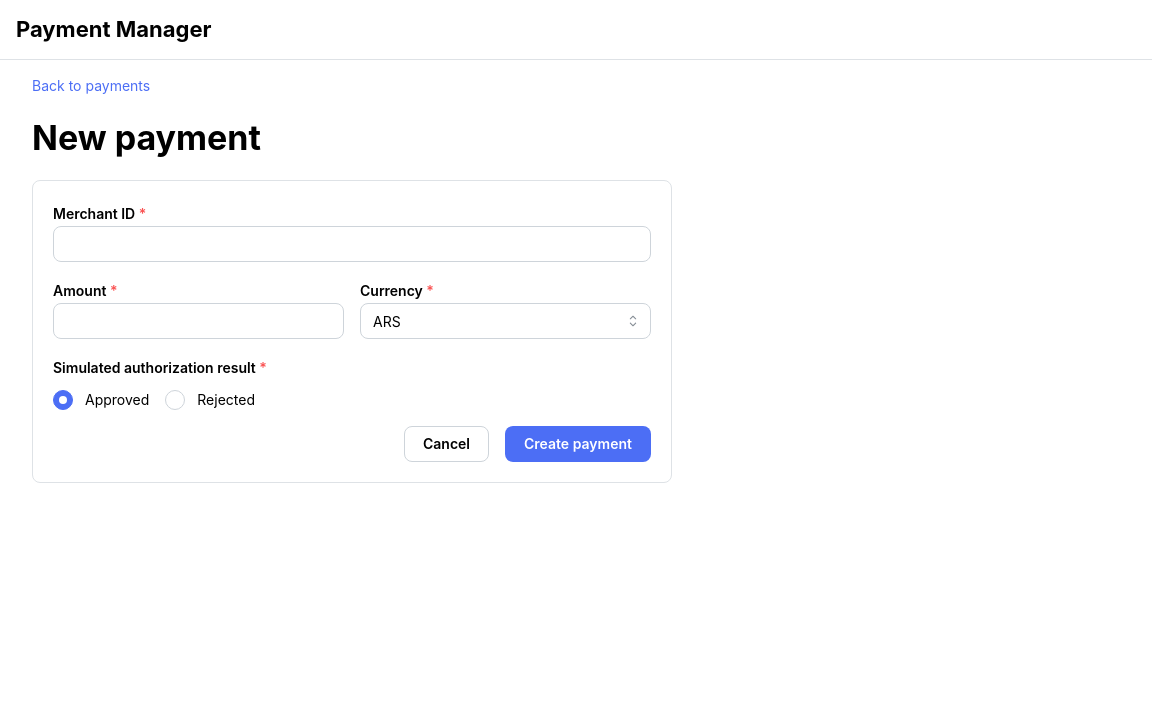
Test case: CreatePaymentPage › given an amount of zero, when the form is submitted, then shows the amount error and sends no request
Type "merchant-001" into the field labelled "Merchant ID" at (352, 244), box [53, 226, 651, 262]
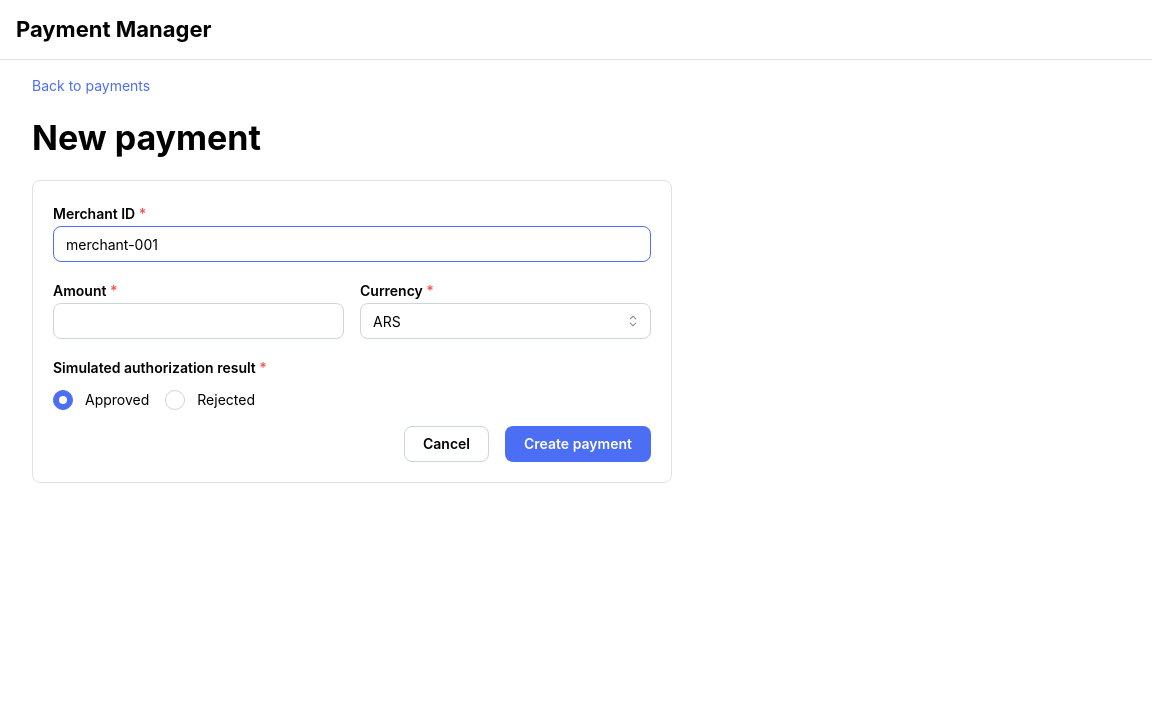
Type "0" into the field labelled "Amount" at (198, 321), box [53, 303, 344, 339]
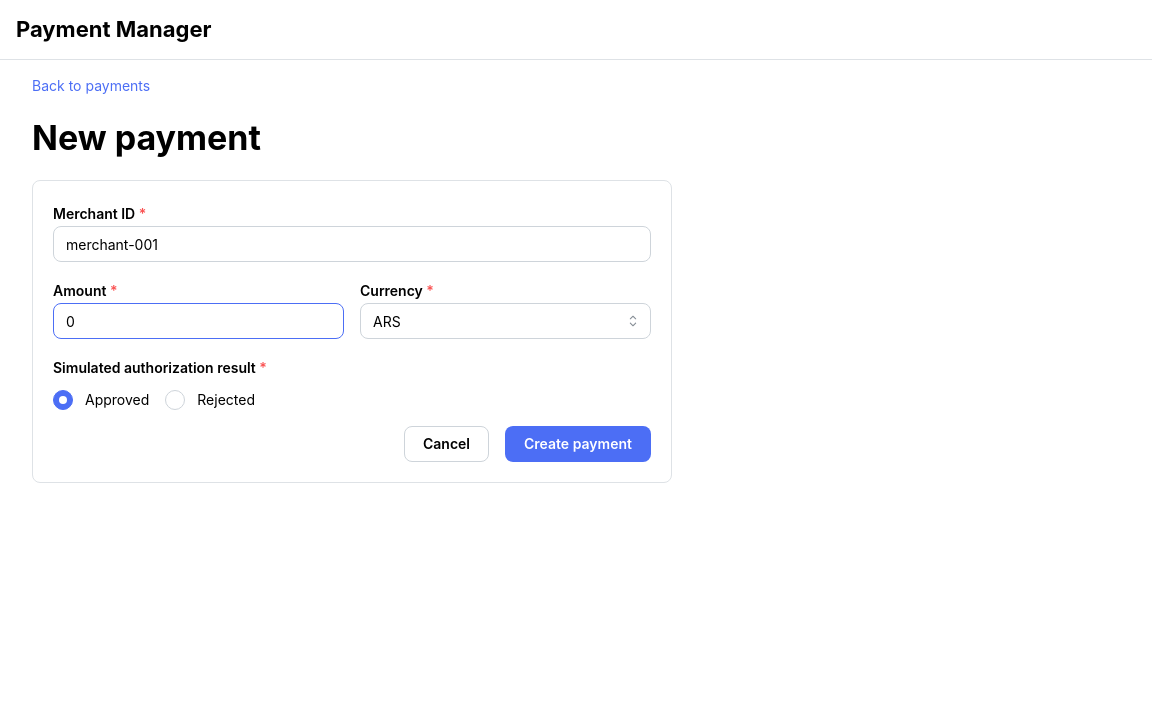
Click the button "Create payment" at (578, 444), box [505, 426, 651, 462]
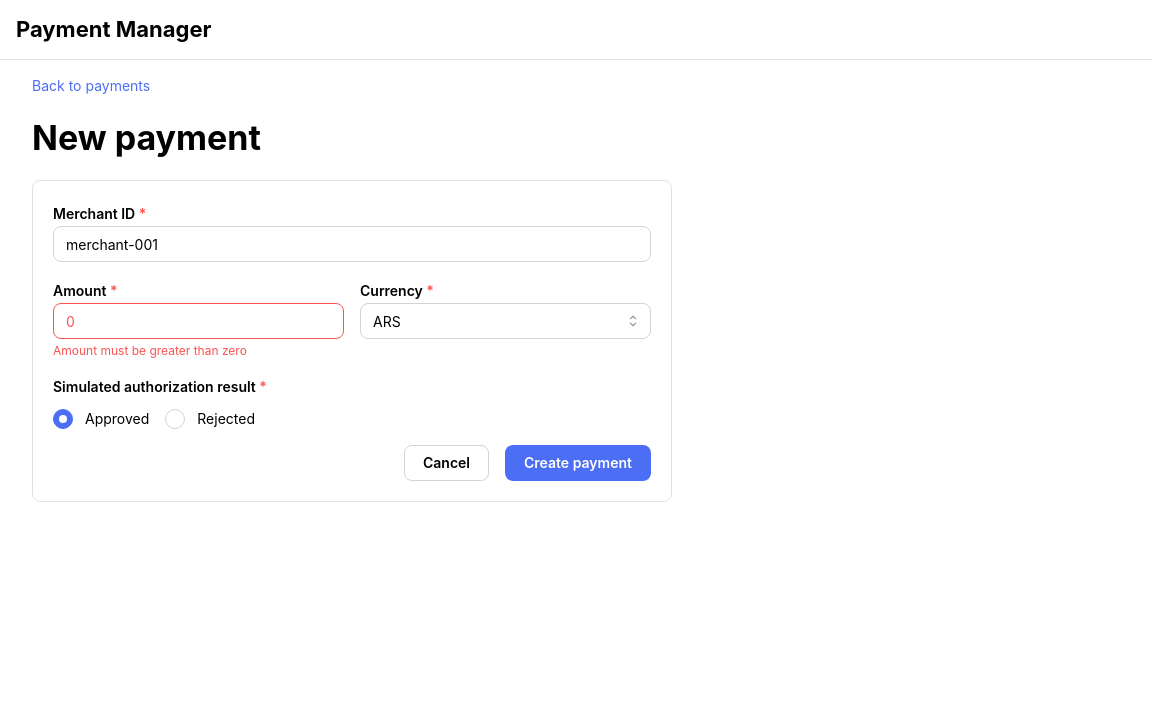
Expected: the text "Amount must be greater than zero" is shown, [53, 343, 247, 358]
